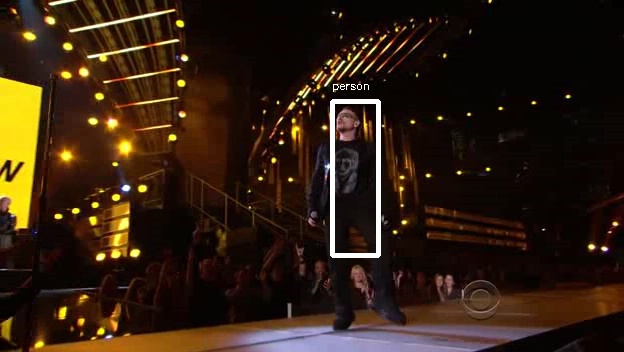person: (312, 110, 382, 225), (309, 110, 379, 225), (315, 110, 385, 225), (312, 107, 382, 222), (312, 113, 382, 228)
target_negative: (412, 279, 497, 339), (173, 144, 232, 196), (56, 251, 87, 335), (502, 161, 581, 174), (106, 293, 137, 319), (621, 4, 622, 183)
